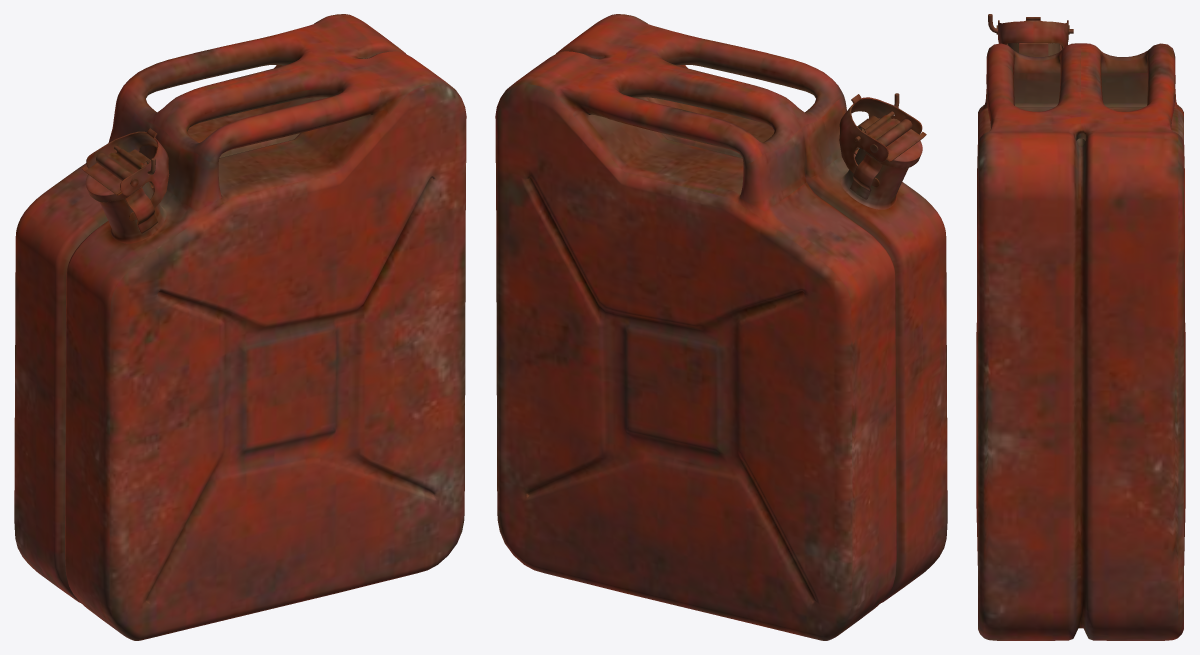
The picture shows the model from 3 angles, left to right: view 1: azimuth 30°, elevation 25°; view 2: azimuth 150°, elevation 25°; view 3: azimuth 270°, elevation 25°; orthographic projection. The views are drawn at different scales.
Parts seen in each view (by area): view 1: metal_jerrycan; view 2: metal_jerrycan; view 3: metal_jerrycan.
Boxes of the visible parts, left/top/right/bottom form: metal_jerrycan: left=14, top=14, right=466, bottom=640; metal_jerrycan: left=495, top=14, right=947, bottom=640; metal_jerrycan: left=976, top=14, right=1185, bottom=640.
Bounding box in the file's own units: 0.3503 × 0.4552 × 0.1717.
1 material, 1 textured.
